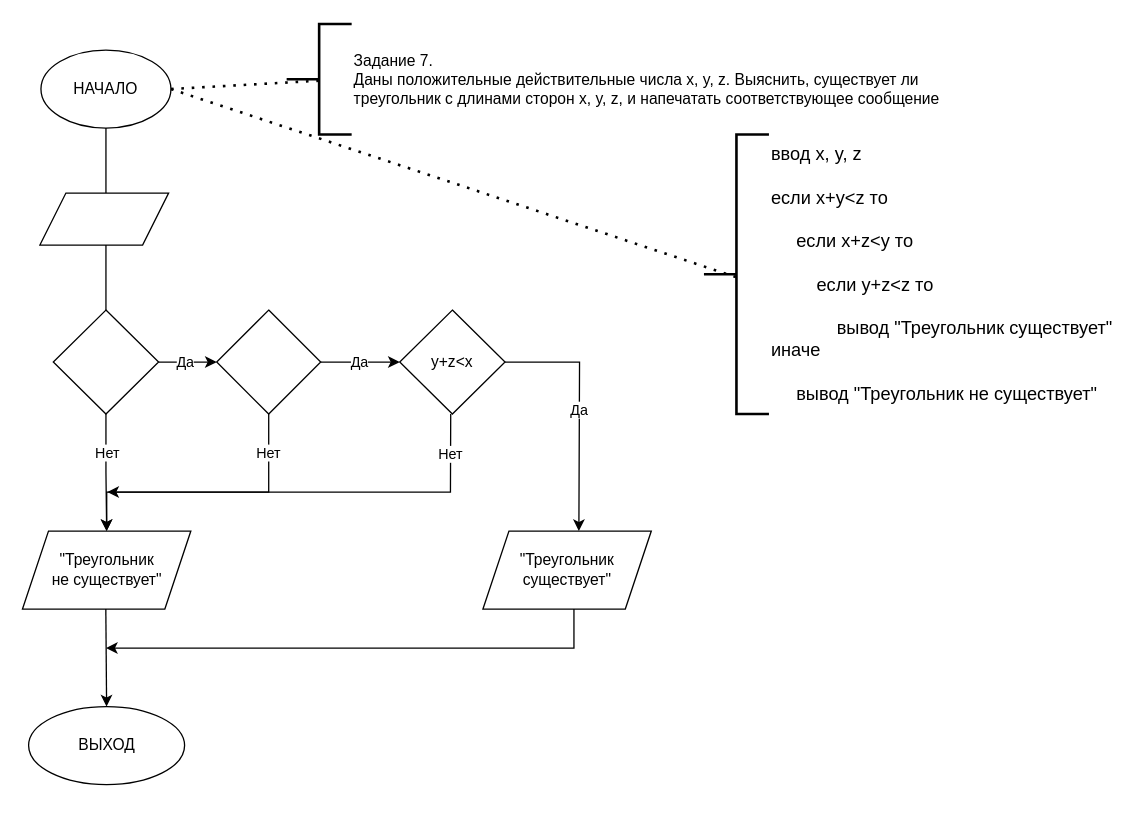
Image size: 1136x824. Some labels were removed from this diagram. The centre of each missing label's shape, as x and y in pixels:
x+y<z: the point at 105,361
x+z<y: the point at 268,361
x, y, z: the point at 104,218
